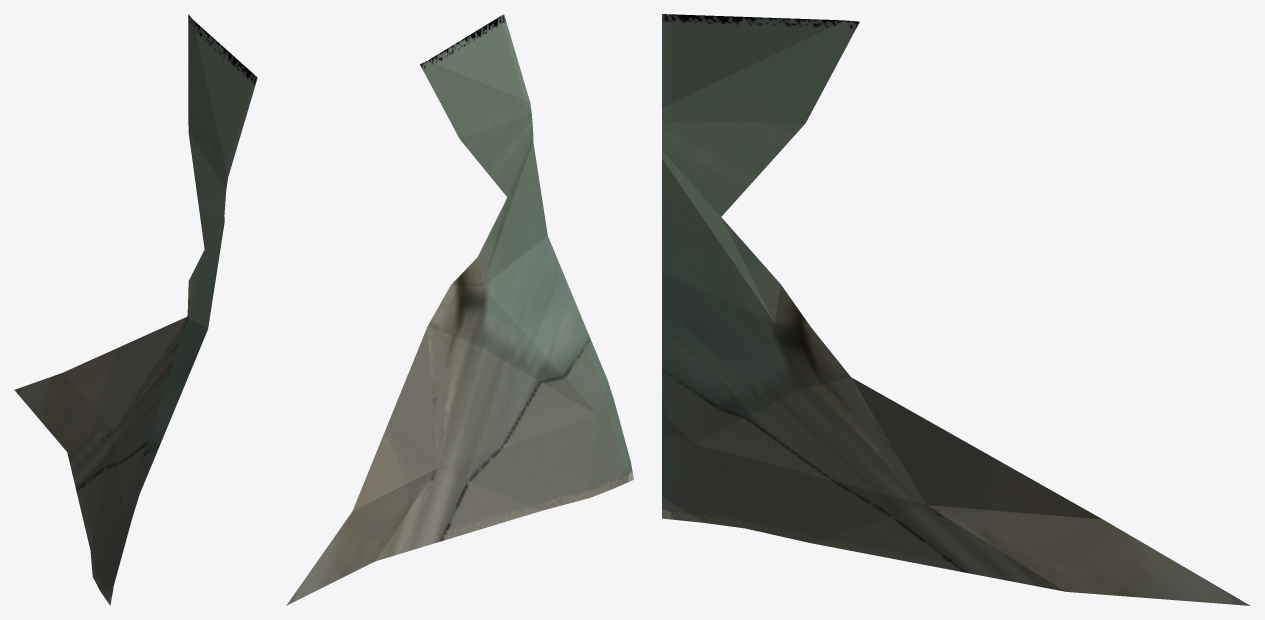
The picture shows the model from 3 angles, left to right: view 1: azimuth 30°, elevation 25°; view 2: azimuth 150°, elevation 25°; view 3: azimuth 270°, elevation 25°; orthographic projection. The views are drawn at different scales.
Bounding box in the file's own units: 0.5709 × 1.67 × 1.51.
1 material, 1 textured.
